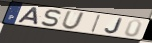0: (124, 19, 143, 38)
A: (16, 6, 40, 26)
I: (90, 14, 102, 34)
J: (104, 18, 124, 35)
S: (40, 9, 62, 28)
U: (60, 11, 86, 31)
